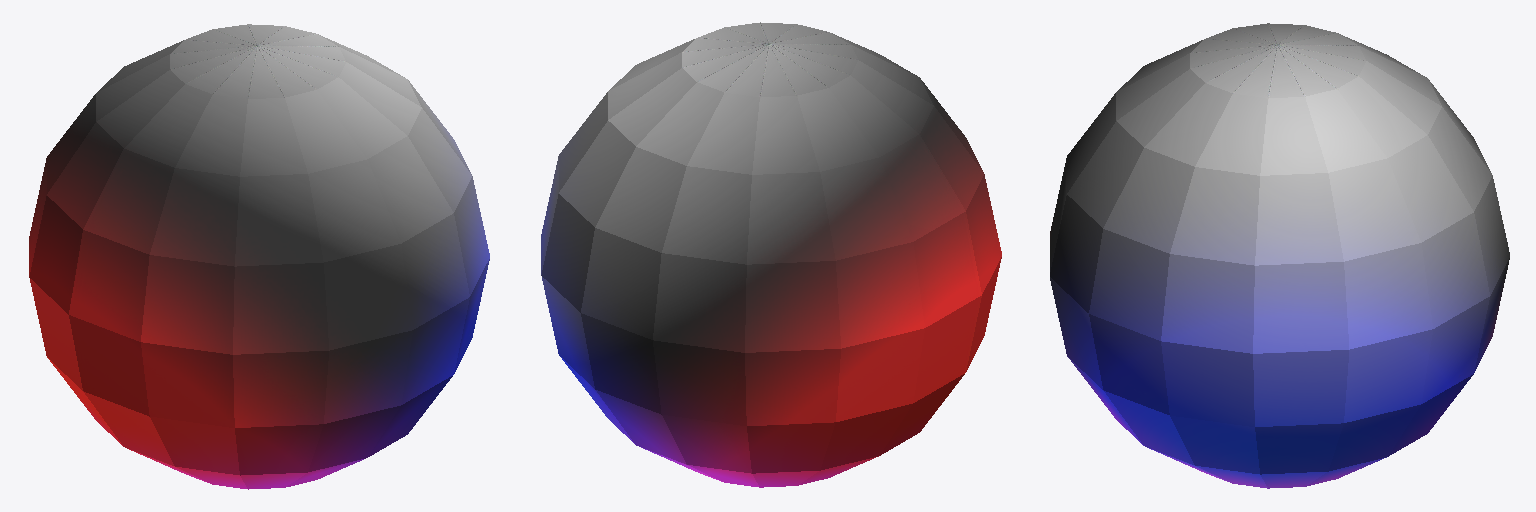
The picture shows the model from 3 angles: view 1: azimuth 30°, elevation 25°; view 2: azimuth 150°, elevation 25°; view 3: azimuth 270°, elevation 25°; orthographic projection.
Parts seen in each view (by area): view 1: Sphere; view 2: Sphere; view 3: Sphere.
Part boxes in pixels (left/top/right/bottom): Sphere: left=29, top=24, right=489, bottom=489; Sphere: left=541, top=22, right=1001, bottom=487; Sphere: left=1050, top=23, right=1509, bottom=488.
Bounding box in the file's own units: 1.99 × 2 × 1.98.
Materials: 1 (1 with a texture image).